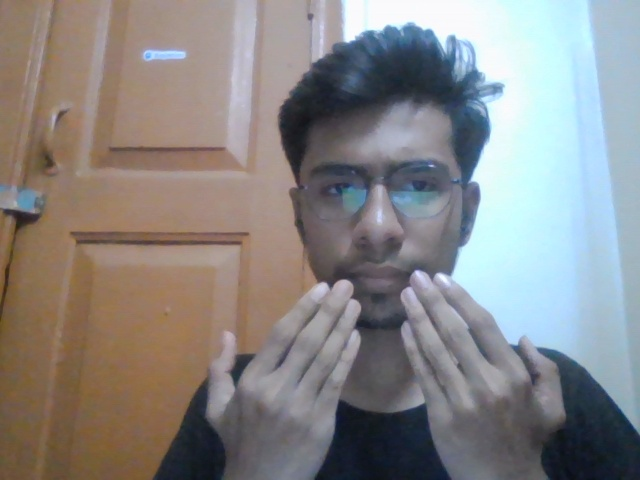ThankYou: (173, 260, 580, 480)
